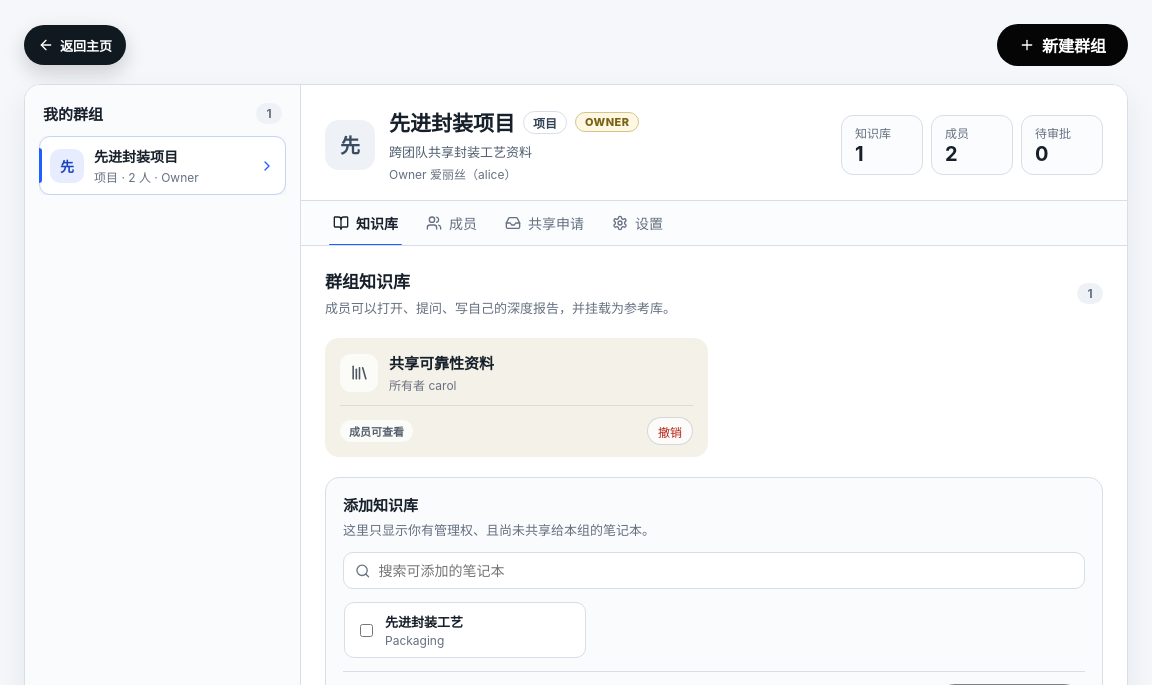
Test: owner 转让需要二次确认，新 owner 由服务端返回且旧 owner 保留管理员提示
This screenshot has width=1152, height=685.
Expected: the heading "先进封装项目" is shown, [389,107,515,137]
Click the button "设置": (638, 223) [600,201,675,245]
(page scrolled)
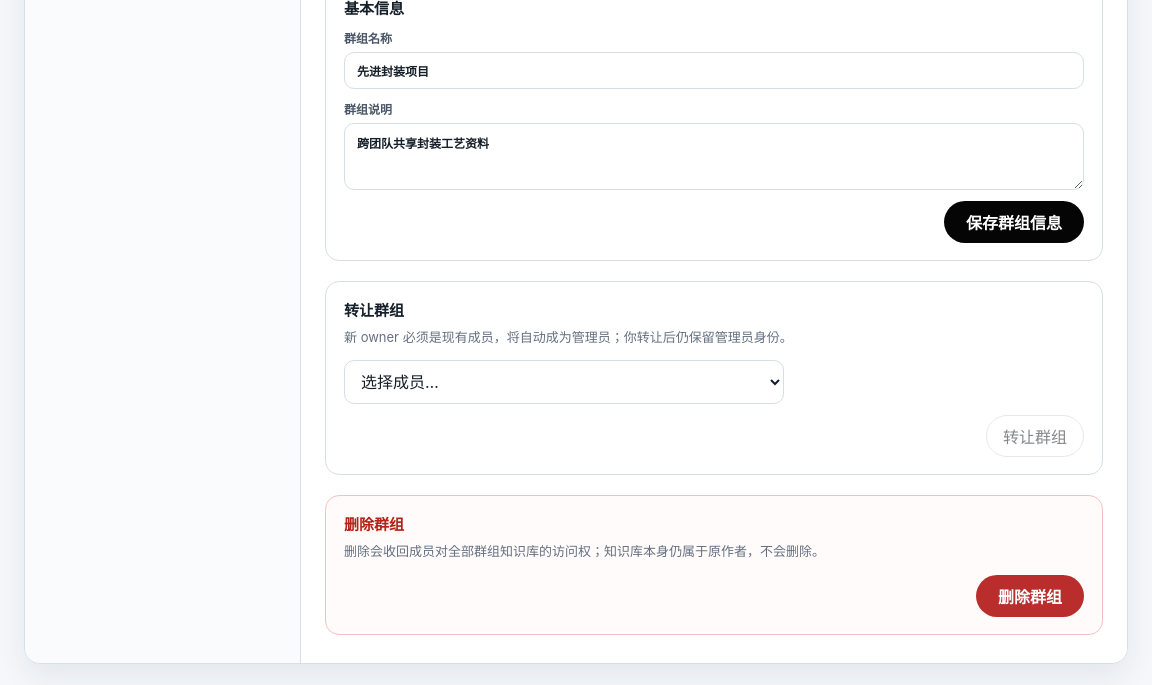
Select "bob" in the dropdown named "选择新的群组所有者": (564, 382) [344,360,784,404]
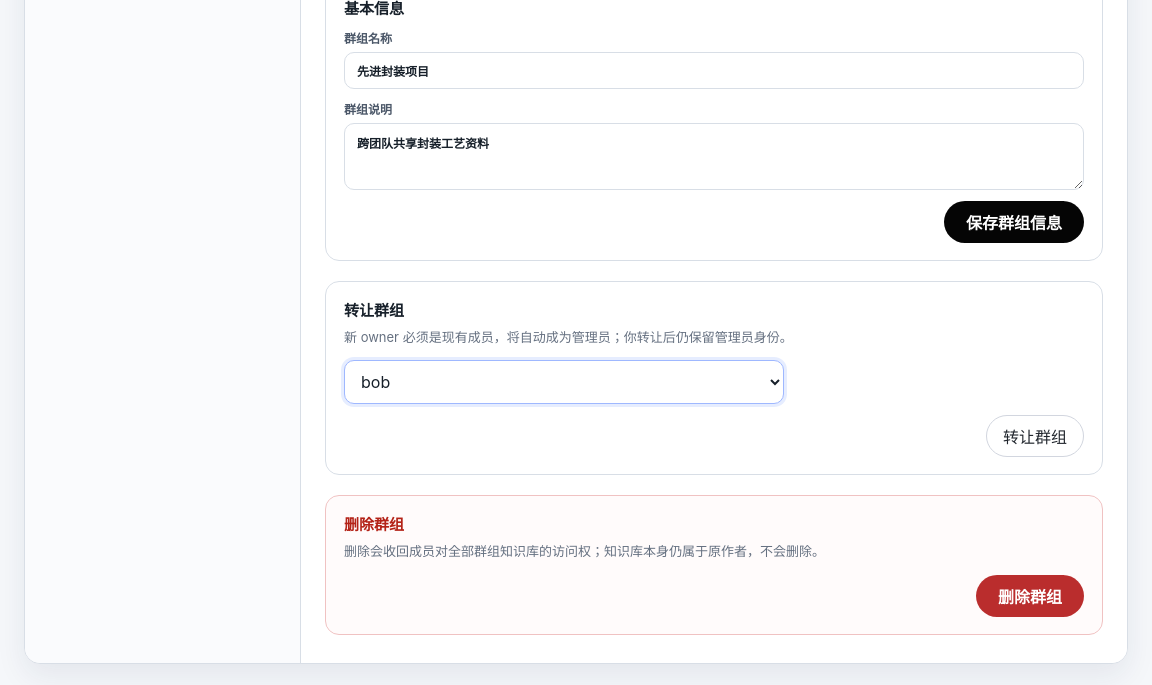
Click the button "转让群组": (1035, 436) [986,415,1084,457]
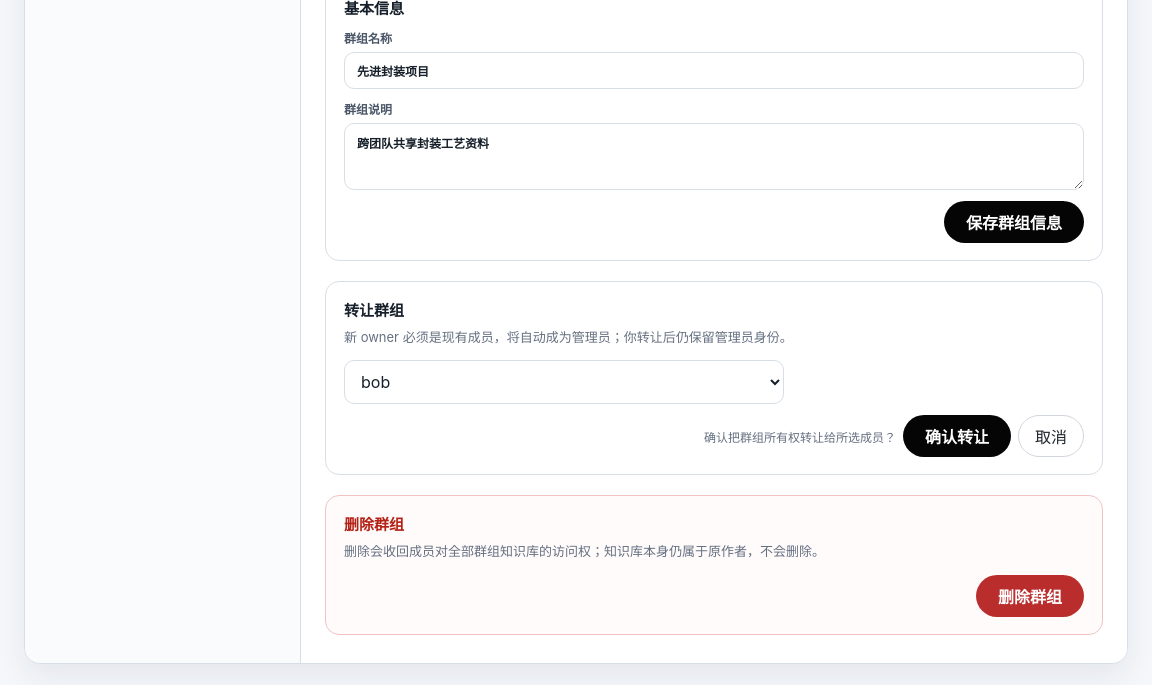
Click the button "确认转让": (957, 436) [903,415,1011,457]
(page scrolled)
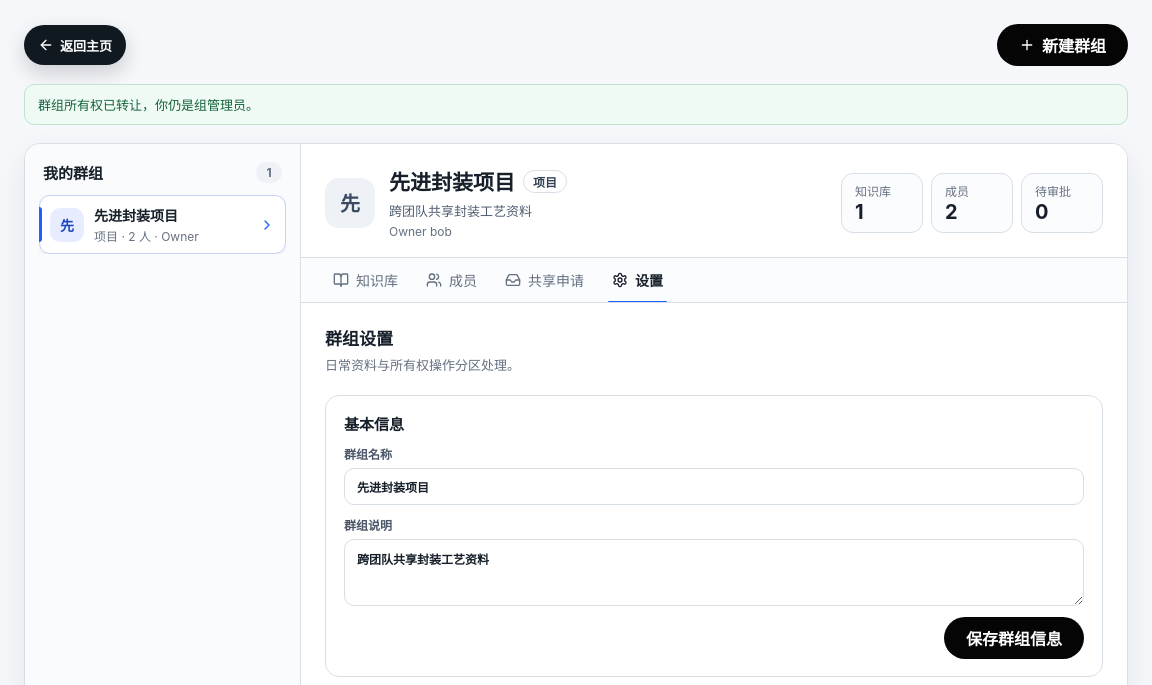
Result: the text "群组所有权已转让，你仍是组管理员。" is shown at [24,84,1128,125]
